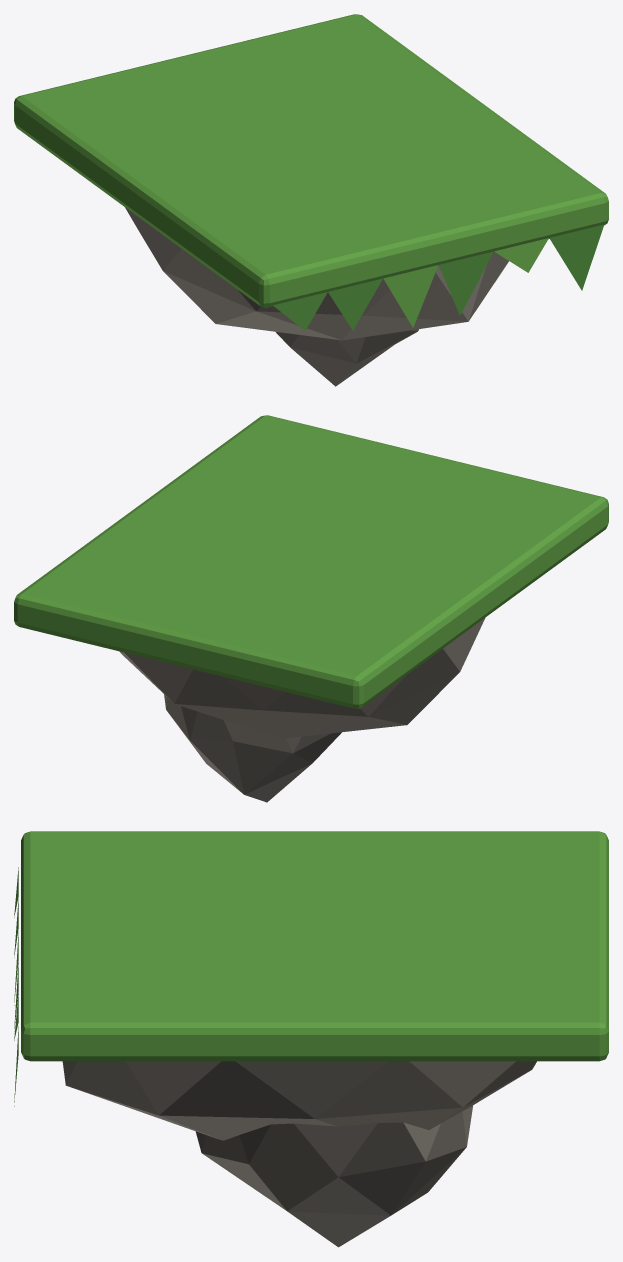
The model's file is ledge_2.glb.
The picture shows the model from 3 angles, top to bottom: view 1: azimuth 30°, elevation 25°; view 2: azimuth 150°, elevation 25°; view 3: azimuth 270°, elevation 25°; orthographic projection. The views are drawn at different scales.
Visible parts, largest first — view 1: ledge_mesh; view 2: ledge_mesh; view 3: ledge_mesh.
Part boxes in pixels (x1=…): ledge_mesh: x1=14, y1=14, x2=608, y2=386; ledge_mesh: x1=14, y1=415, x2=608, y2=802; ledge_mesh: x1=14, y1=831, x2=608, y2=1247.
Bounding box in the file's own units: 2 × 1.41 × 2.53.
